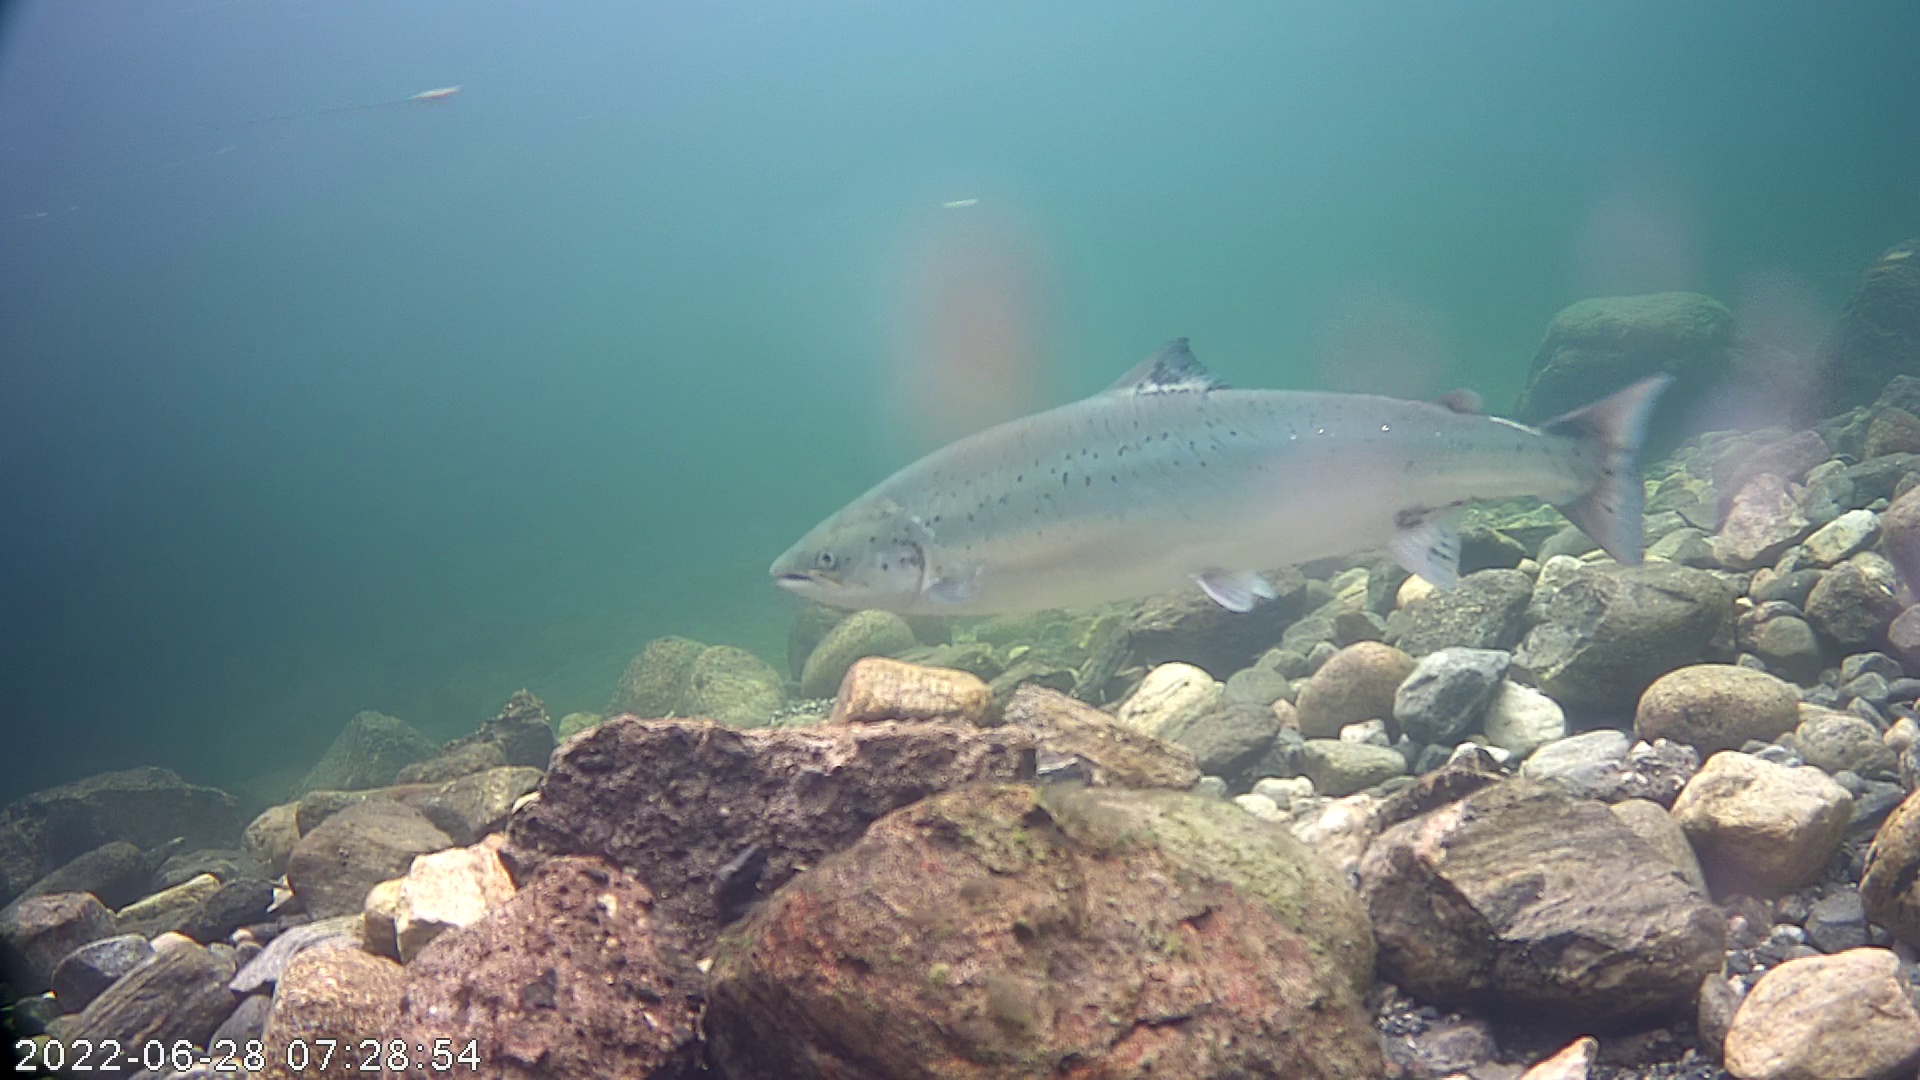salmon: (764, 237, 1683, 675)
